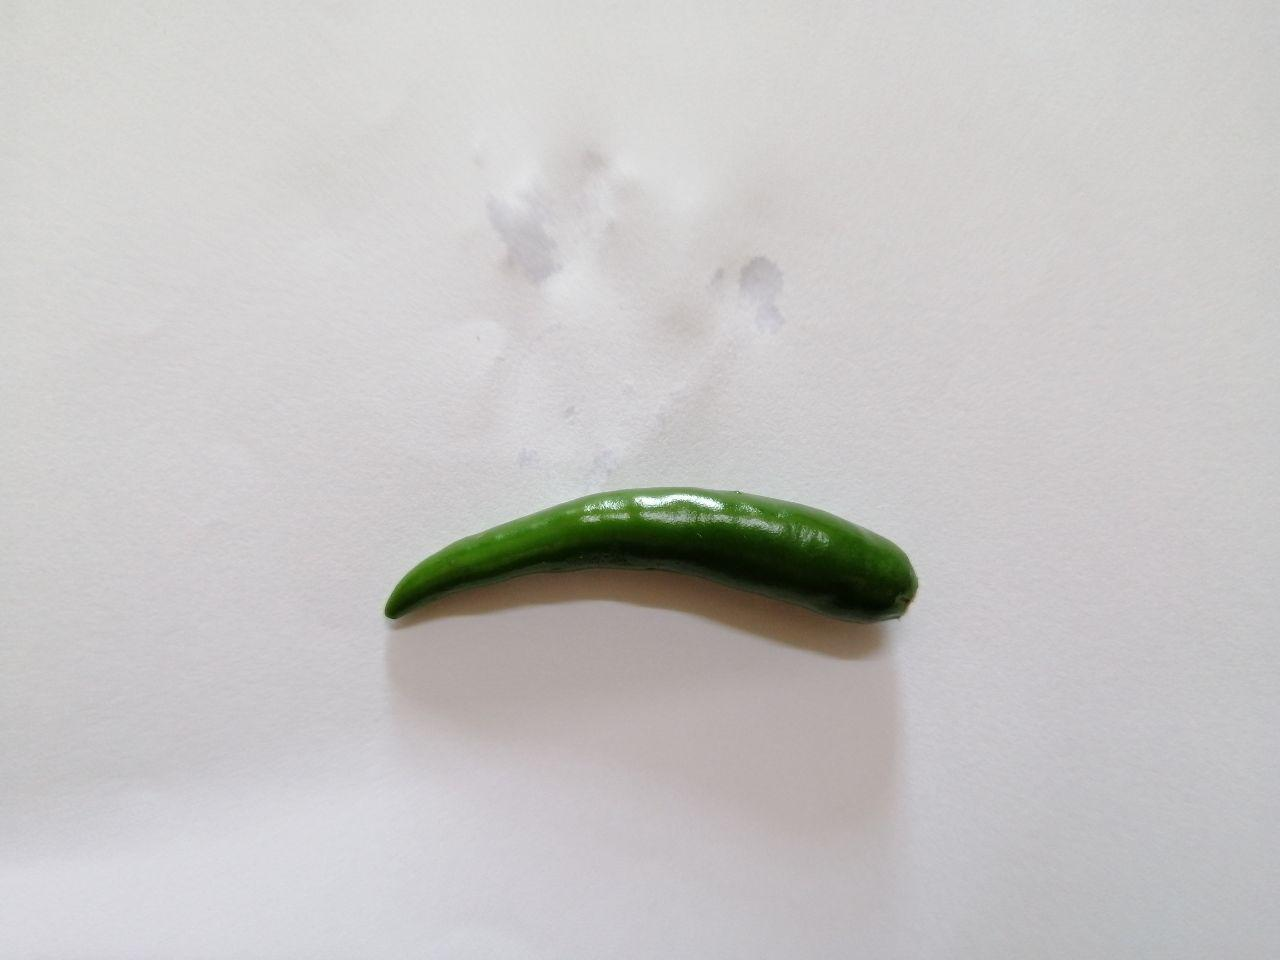lada hijau: (371, 471, 943, 677)
